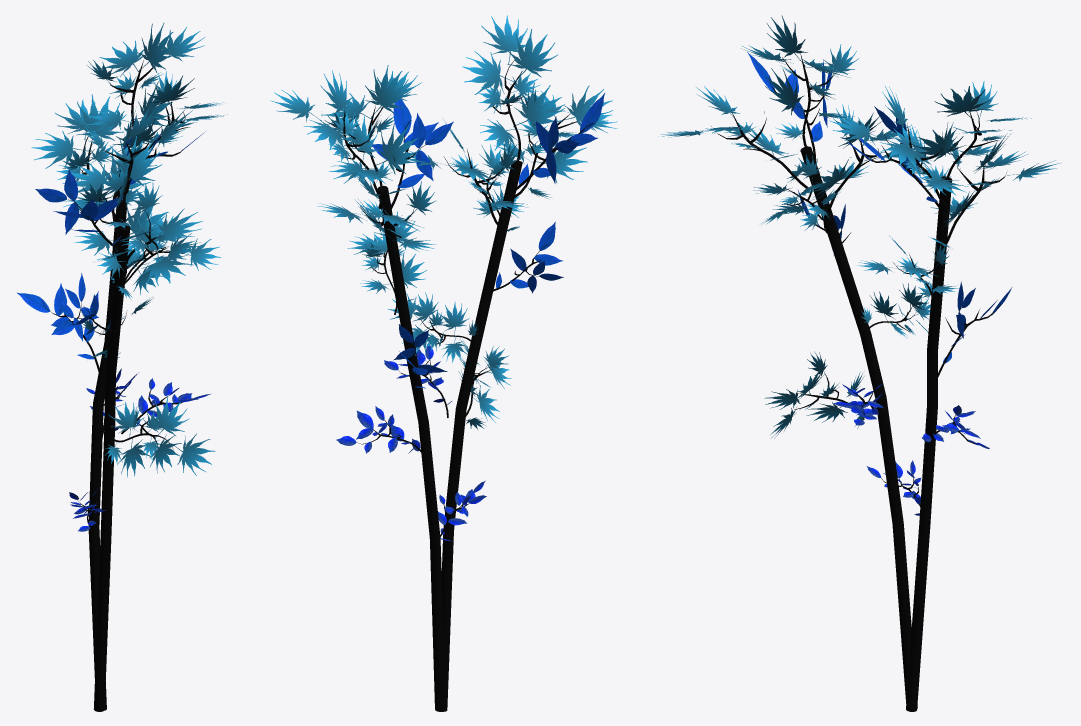
Rendered from bluetree8.fbx.
The picture shows the model from 3 angles, left to right: view 1: azimuth 30°, elevation 25°; view 2: azimuth 150°, elevation 25°; view 3: azimuth 270°, elevation 25°; orthographic projection. The views are drawn at different scales.
Parts seen in each view (by area): view 1: pCylinder1068; view 2: pCylinder1068; view 3: pCylinder1068.
Part boxes in pixels (x1,y1,x2,y2): pCylinder1068: (17,23,227,711); pCylinder1068: (270,15,617,711); pCylinder1068: (658,15,1061,711).
Size of the model in its own units: 17.35 by 44.36 by 24.1.
